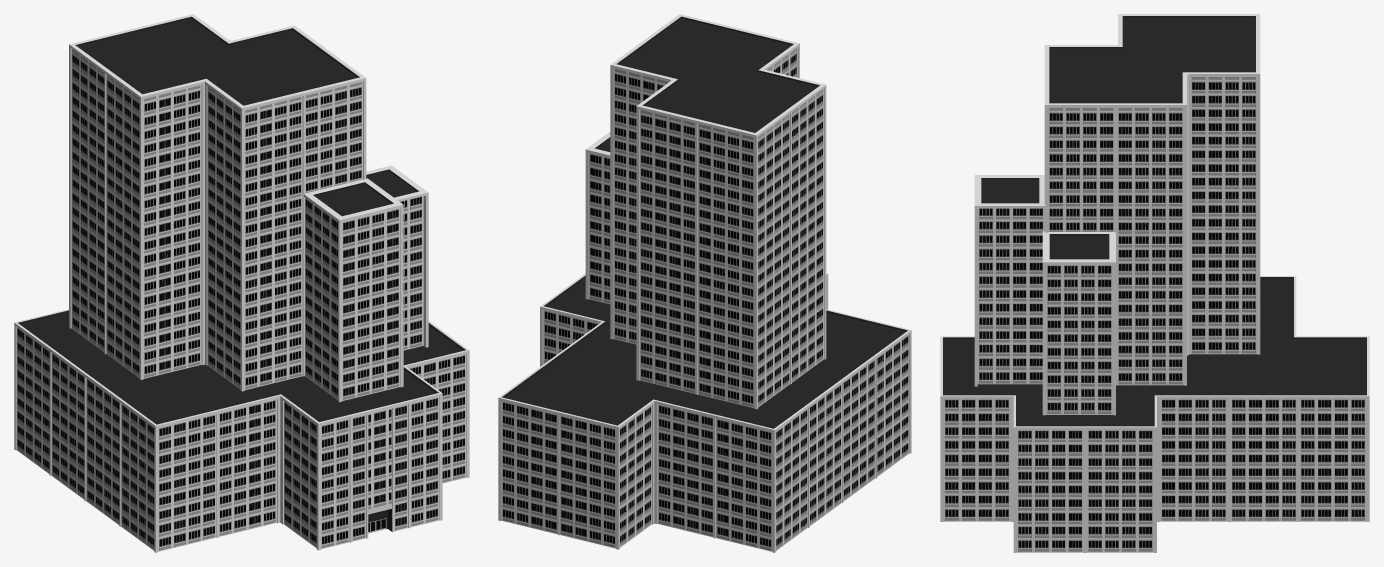
File: large_low_poly_building.glb
3 views of the same model, side by side, from view 1: azimuth 30°, elevation 25°; view 2: azimuth 150°, elevation 25°; view 3: azimuth 270°, elevation 25° (orthographic). The views are drawn at different scales.
Parts seen in each view (by area): view 1: Material2 (×3); view 2: Material2 (×3); view 3: Material2 (×3).
Boxes of the visible parts, box(x1,y1,x2,y2) form: Material2 (×3): box(14, 14, 469, 552); Material2 (×3): box(498, 14, 911, 552); Material2 (×3): box(940, 14, 1369, 552).
Bounding box in the file's own units: 2560 × 3200 × 3070.
Materials: 4 (2 with a texture image).
